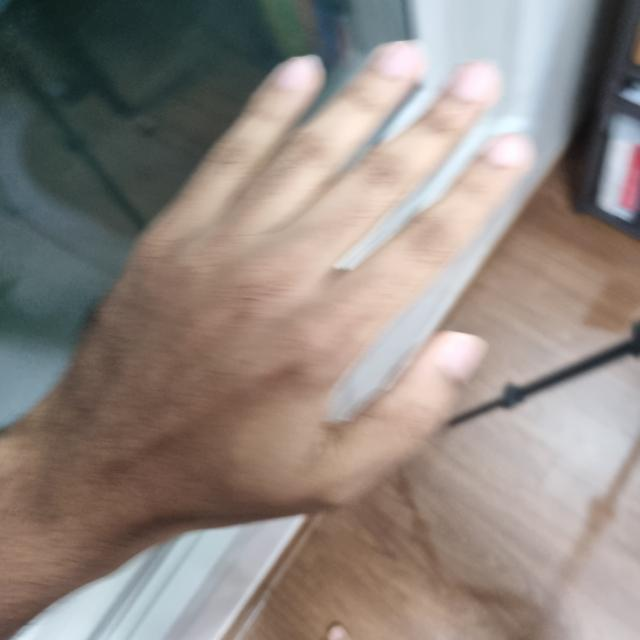Paper: (55, 49, 524, 525)
